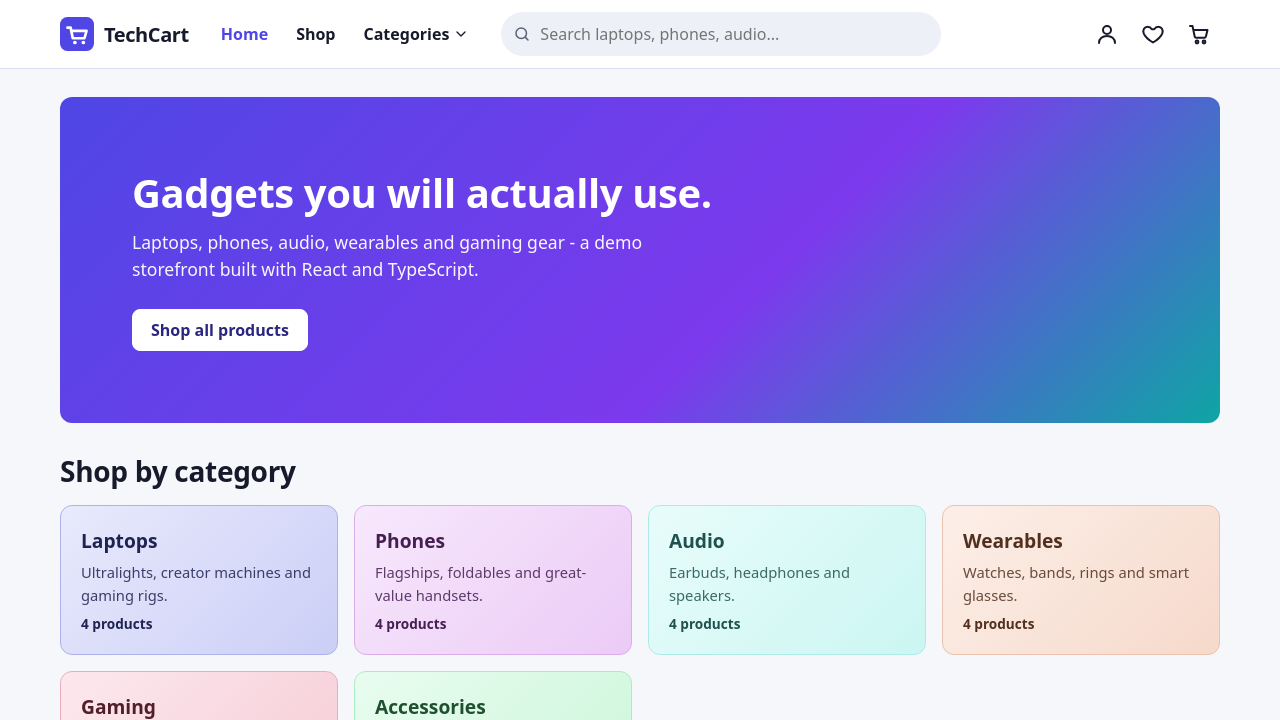
SearchBar › searches on Enter and shows a results page
The image size is (1280, 720).
Type "nimbus" into the dropdown named "Search products" at (721, 34), box [501,12,941,56]
Then press Enter
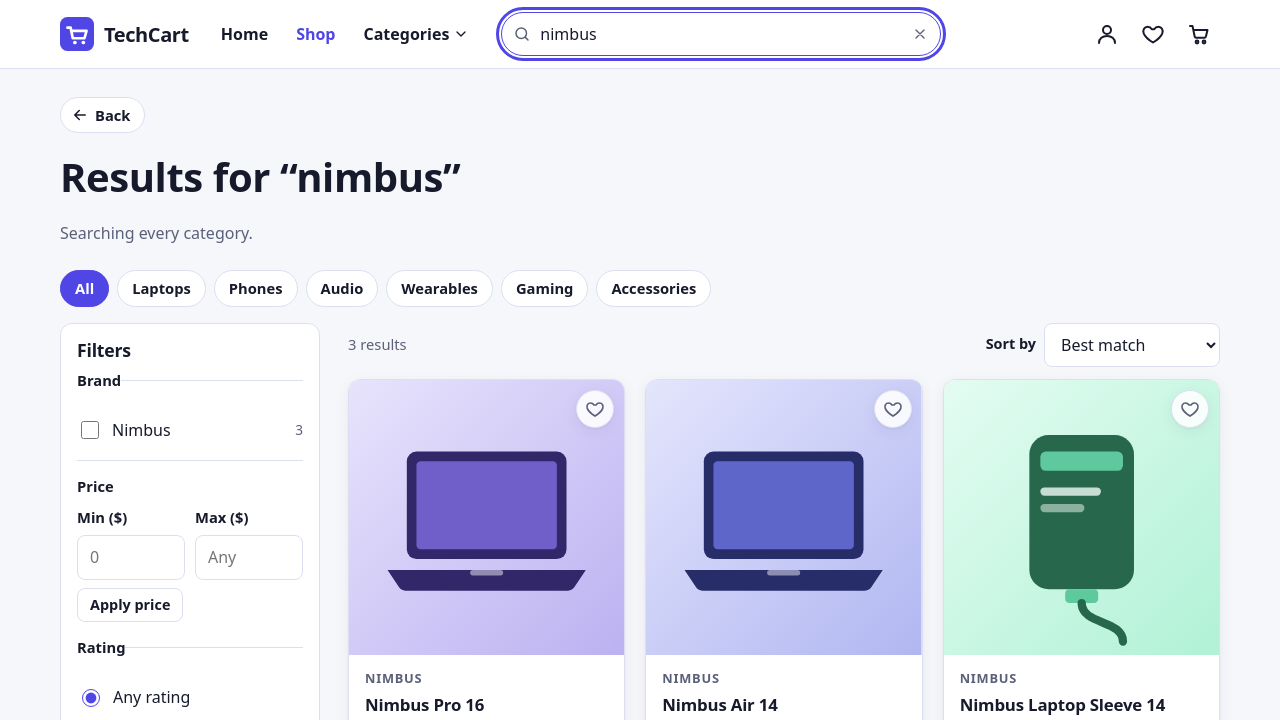
Expected: the heading "Results for “nimbus”" is shown, [60,149,460,204]
Expected: the heading "Nimbus Laptop Sleeve 14" is shown, [960,693,1165,716]
Expected: the message reads "3 results", [348,333,407,356]
